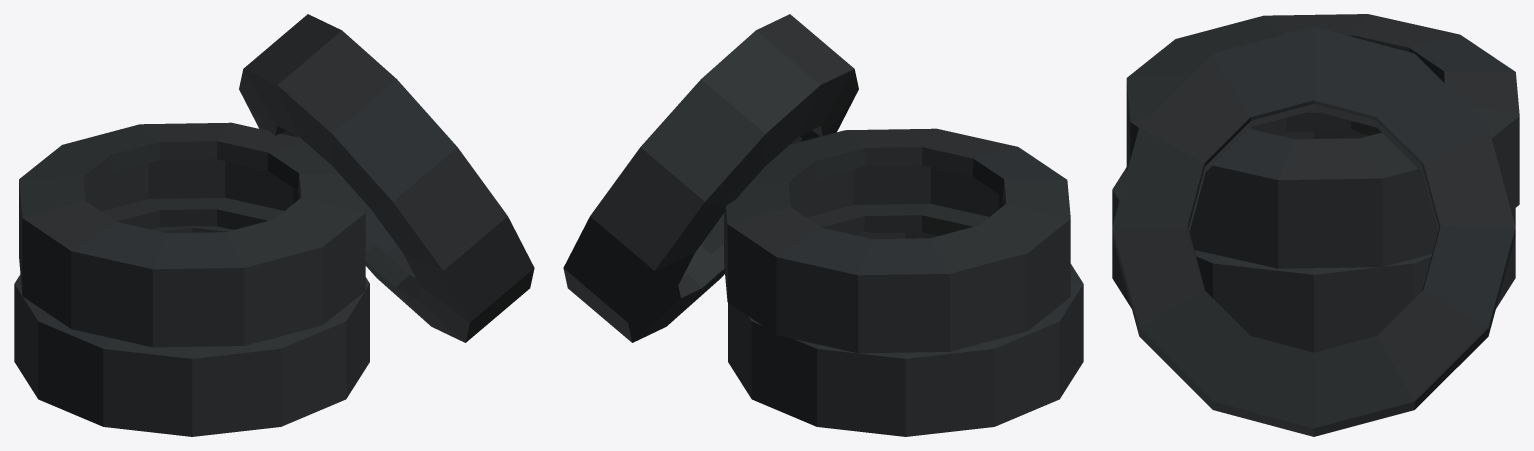
Rendered from tires.gltf.
The picture shows the model from 3 angles, left to right: view 1: azimuth 30°, elevation 25°; view 2: azimuth 150°, elevation 25°; view 3: azimuth 270°, elevation 25°; orthographic projection. The views are drawn at different scales.
Parts seen in each view (by area): view 1: SM_Prop_TireStack_01; view 2: SM_Prop_TireStack_01; view 3: SM_Prop_TireStack_01.
Part boxes in pixels (left/top/right/bottom): SM_Prop_TireStack_01: left=14, top=14, right=534, bottom=436; SM_Prop_TireStack_01: left=563, top=14, right=1083, bottom=436; SM_Prop_TireStack_01: left=1112, top=14, right=1519, bottom=436.
Size of the model in its own units: 1.08 by 0.7152 by 0.732.
Materials: 1 (1 with a texture image).
